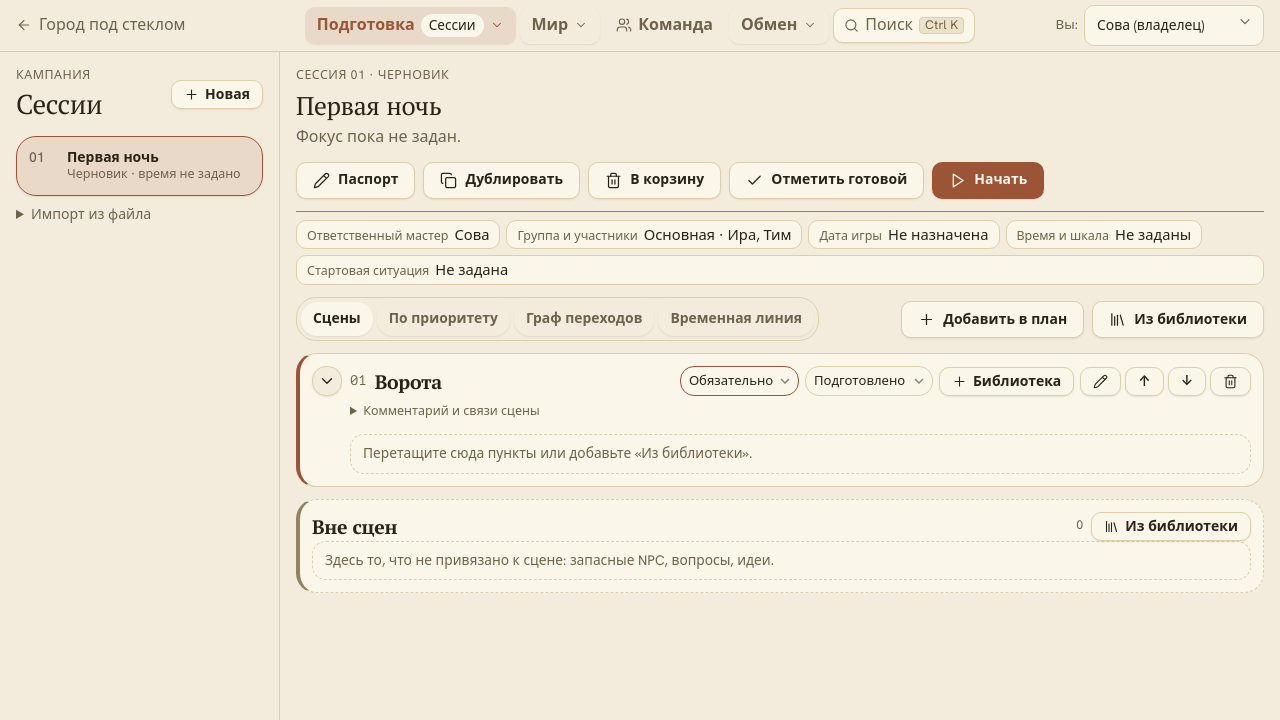
Test case: stage 4: masters and permissions › records a handover when the responsible master changes
Click the button "Паспорт". click: {"x": 356, "y": 180}
box: [296,162,415,198]
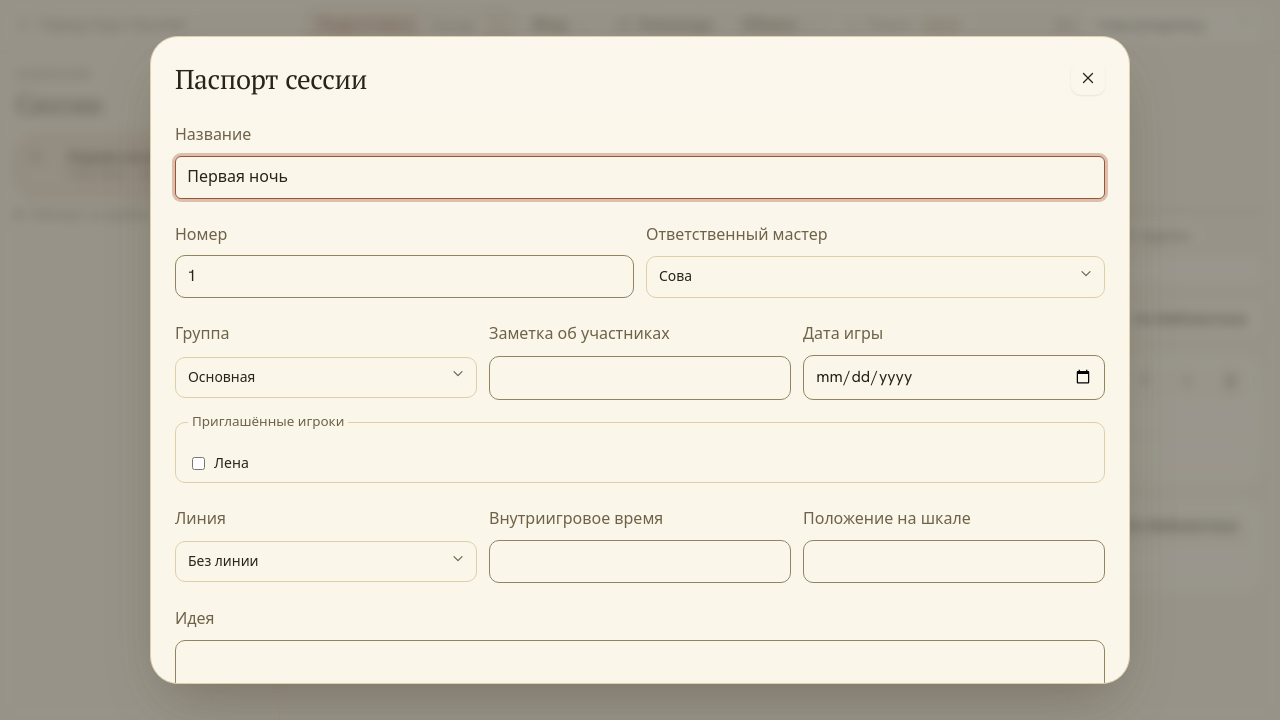
Select "Лис" in the dropdown labelled "Ответственный мастер". click: {"x": 876, "y": 277}
box: [646,256,1105,298]
(page scrolled)
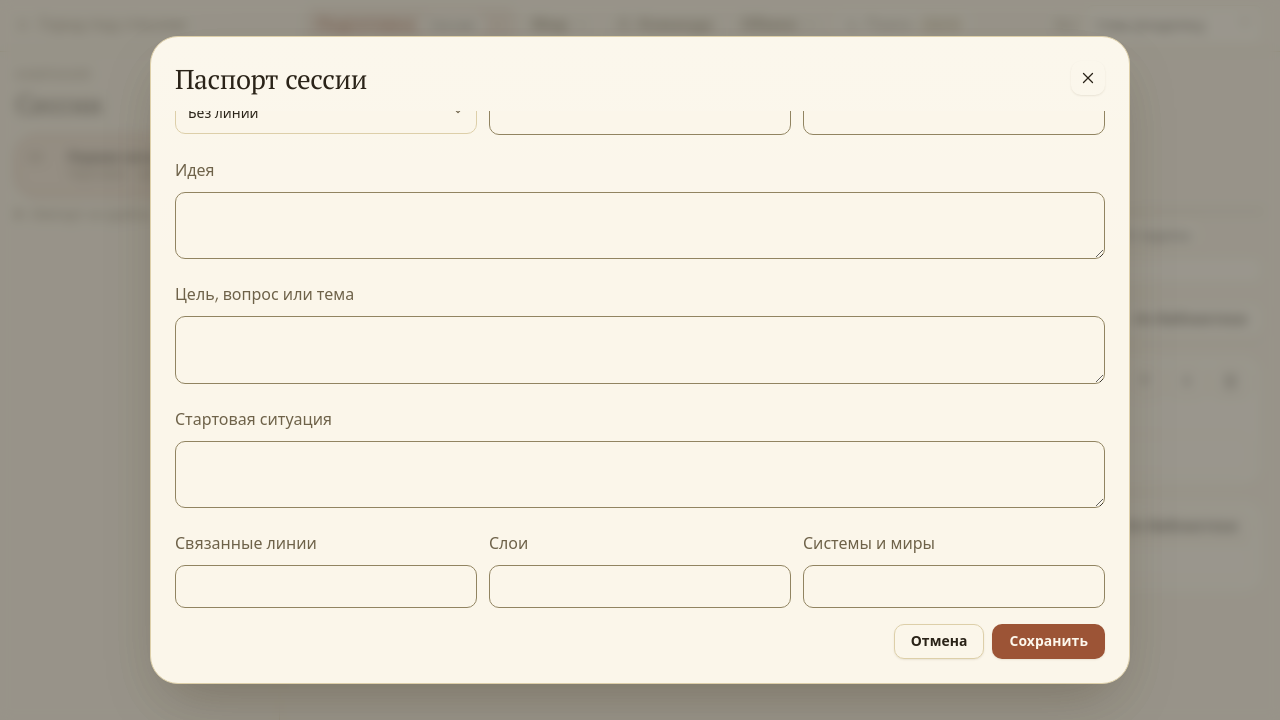
Click the button "Сохранить". click: {"x": 1049, "y": 641}
box: [992,624,1105,659]
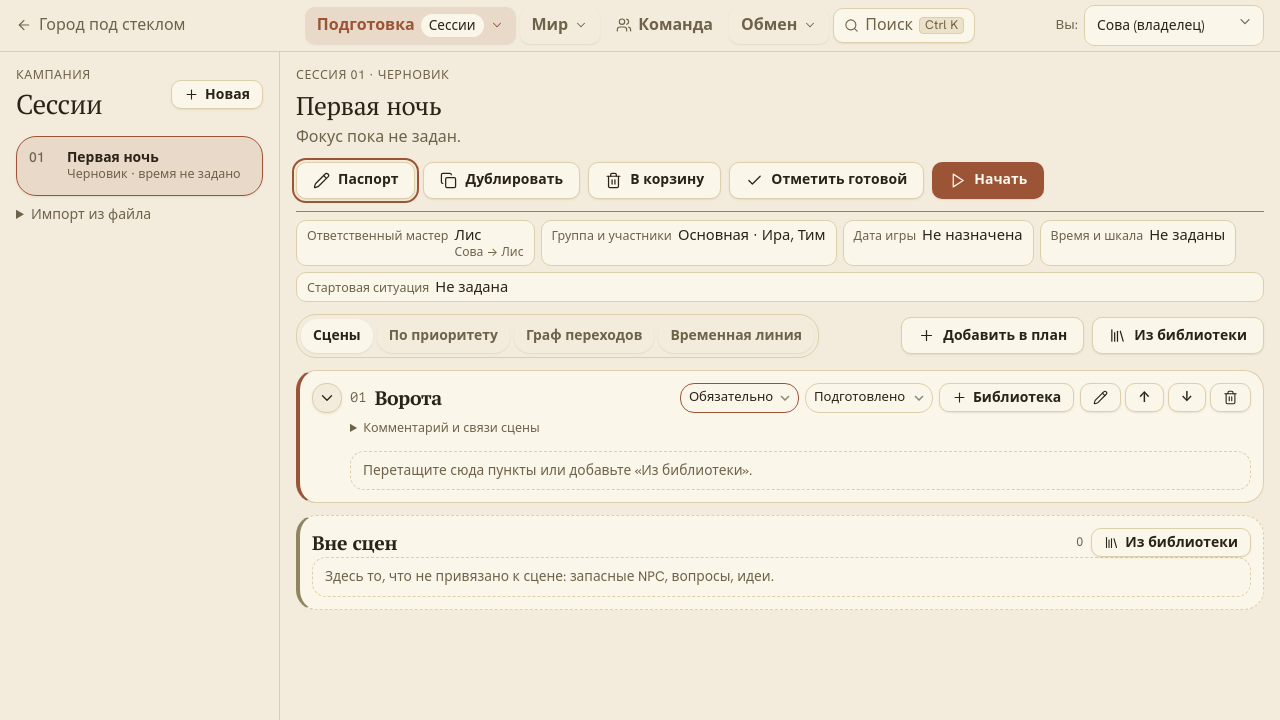
Result: the text "Сова → Лис" is shown at [454,244,524,261]
